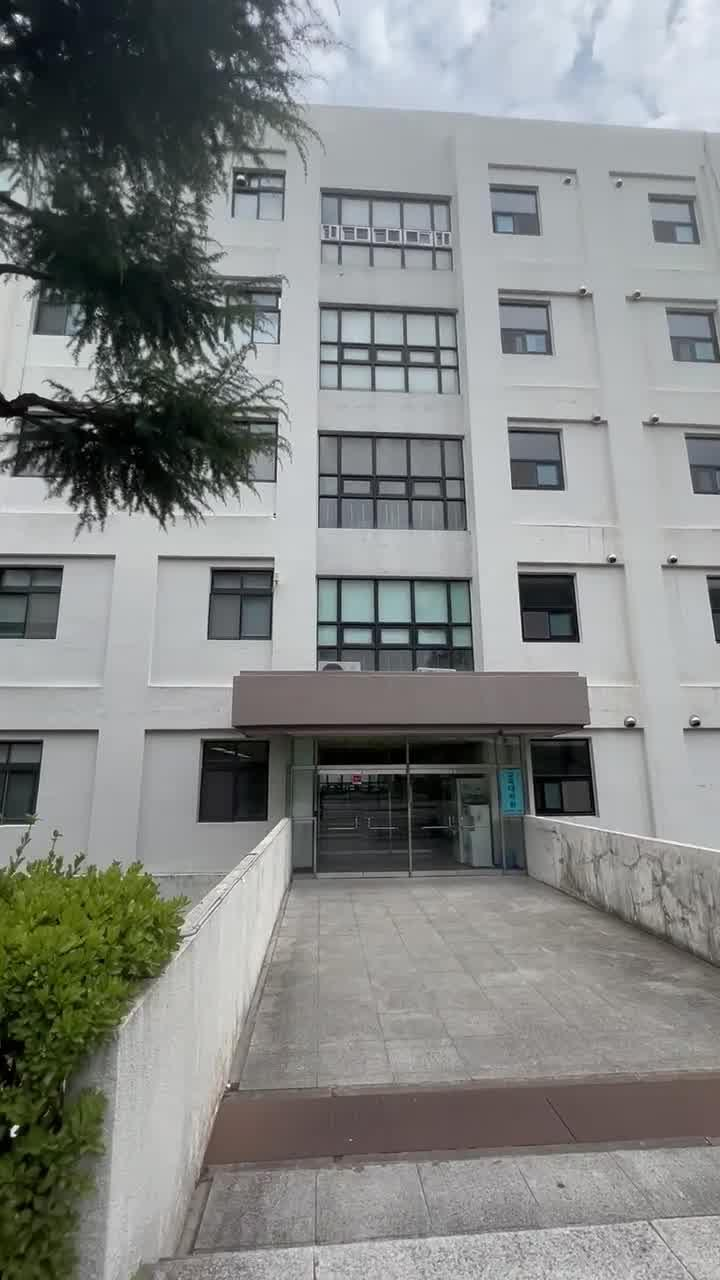building: (238, 132, 720, 846)
